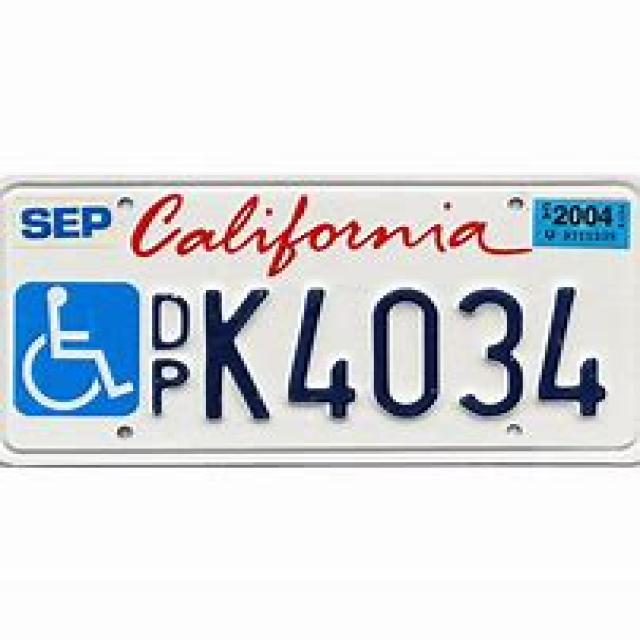car-handicap-placard: (21, 286, 133, 414)
